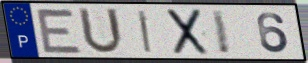6: (255, 11, 291, 54)
E: (33, 6, 85, 55)
I: (209, 9, 233, 56), (136, 9, 153, 55)
U: (76, 6, 126, 56)
X: (166, 8, 210, 56)
